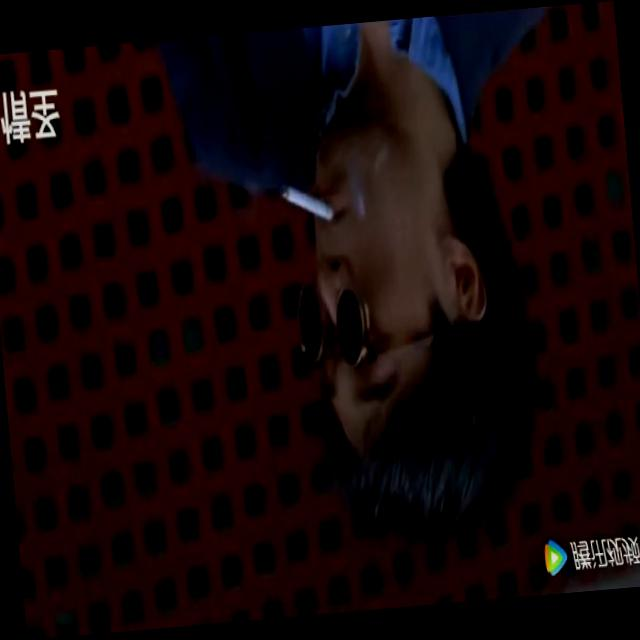smoke: (280, 172, 332, 221)
